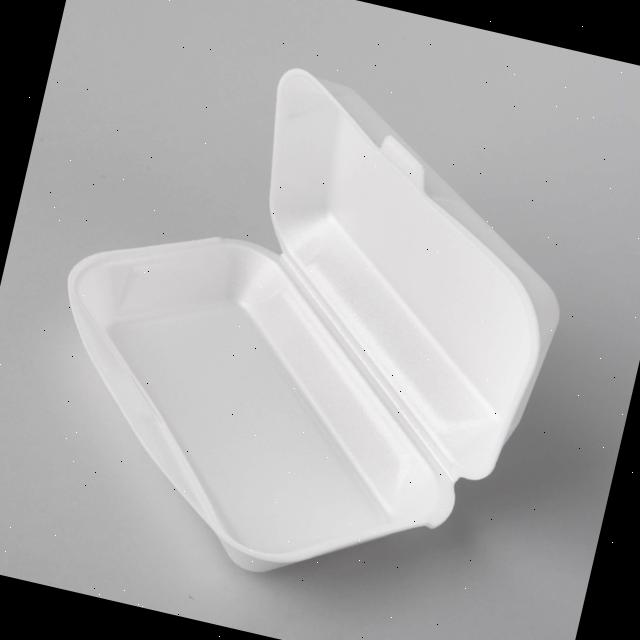styrofoam: (10, 25, 602, 628)
